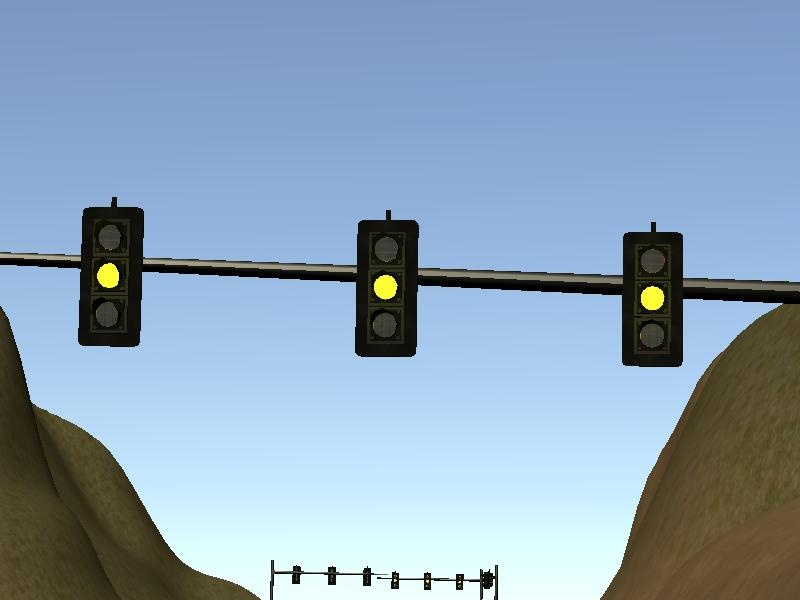YELLOW: (74, 203, 145, 349), (618, 227, 686, 368), (354, 216, 422, 357)
